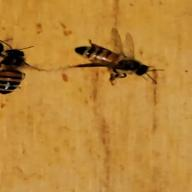Bee: (69, 39, 171, 88), (0, 30, 41, 98)
